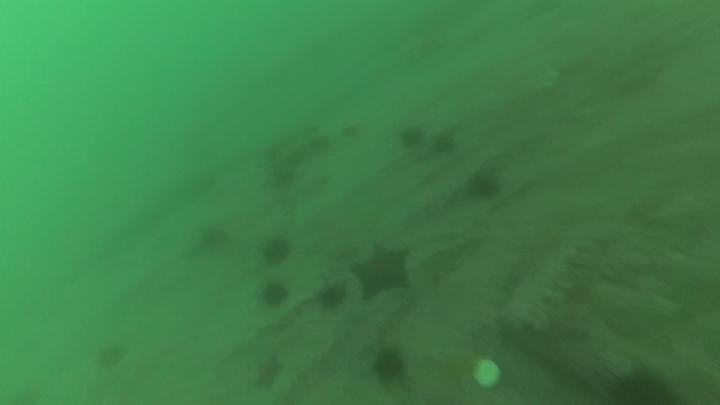echinus: (605, 366, 680, 405), (370, 347, 409, 386), (466, 169, 503, 202), (259, 233, 294, 267), (94, 340, 130, 371), (196, 222, 232, 253), (315, 281, 349, 312), (258, 279, 291, 310), (397, 123, 426, 151), (431, 129, 459, 157), (339, 121, 364, 142)
holothurian: (262, 123, 331, 186)
starfish: (349, 242, 414, 301), (250, 352, 286, 392)
